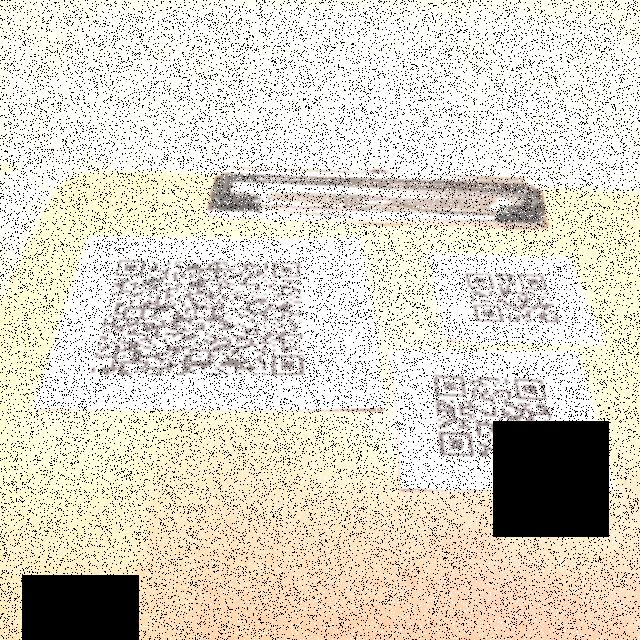QR_CODE: (84, 244, 315, 385), (418, 365, 576, 469), (451, 258, 574, 336)
